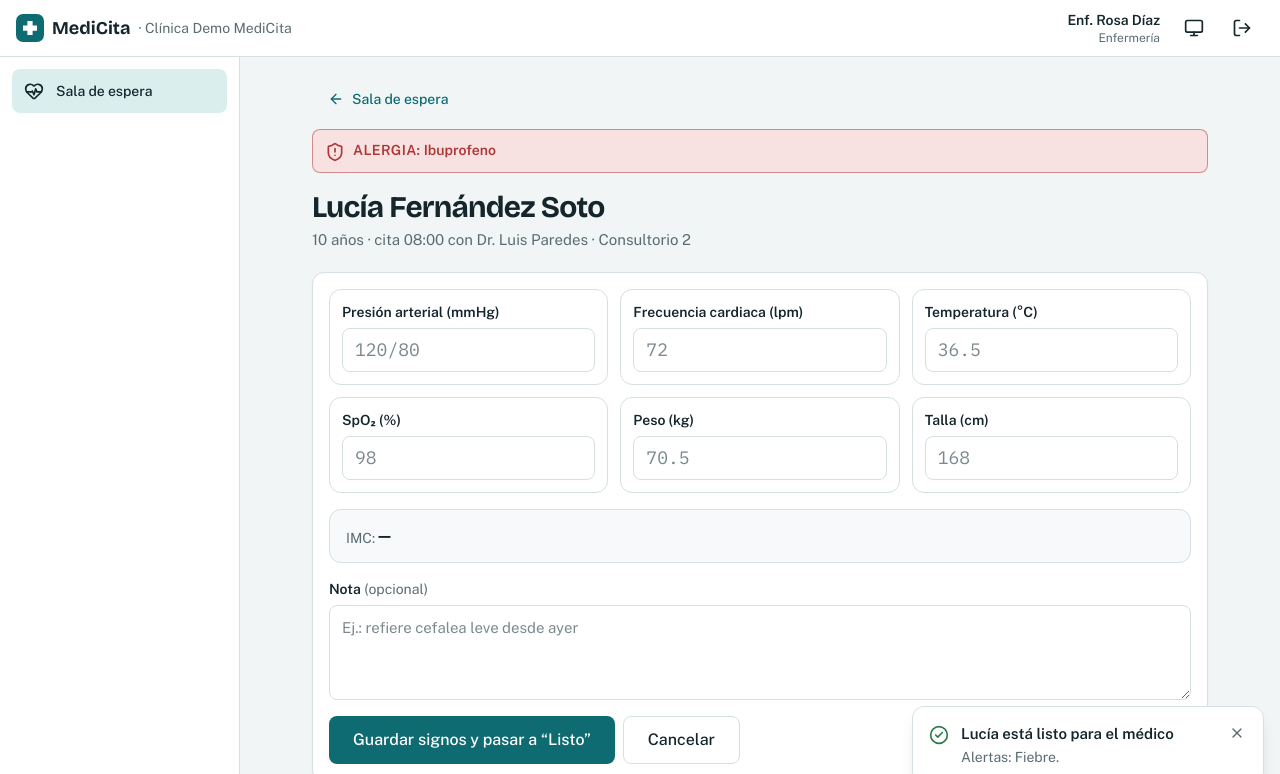
Test case: formulario de triaje › no deja guardar el formulario vacío
Click the button "Guardar signos y pasar a “Listo”" at (472, 740), box [329,716,615,764]
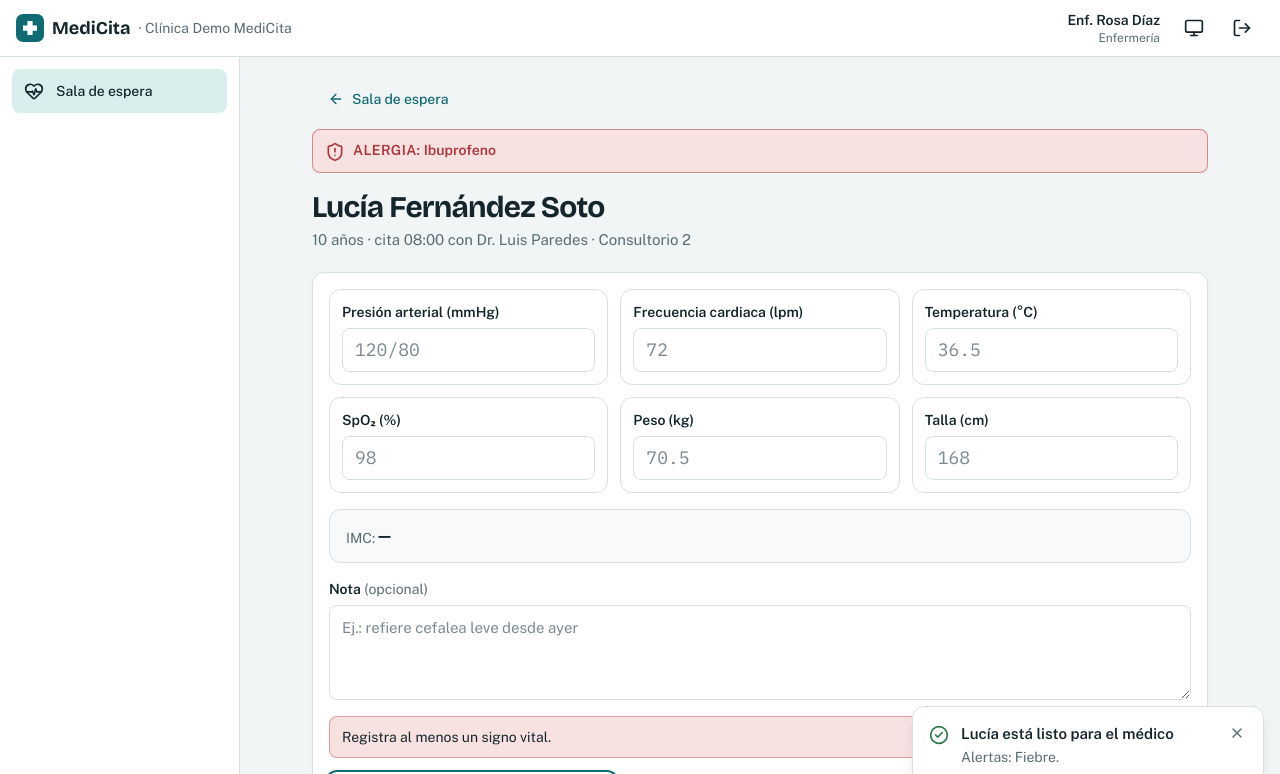
Expected: the text "Registra al menos un signo vital." is shown, [329,716,1191,758]
